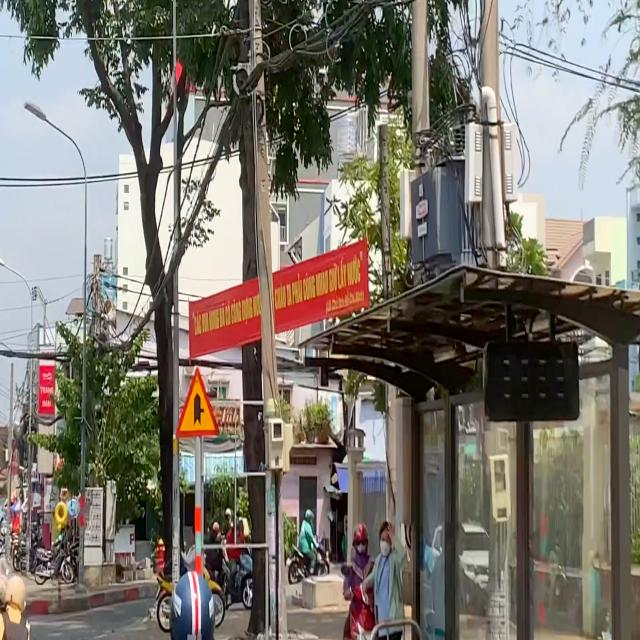Giao voi duong khong uu tien: (175, 364, 221, 440)
